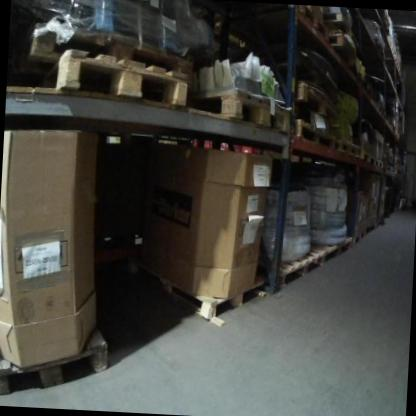pallet: (26, 18, 197, 86), (0, 323, 111, 403), (52, 45, 190, 106), (130, 263, 268, 324), (190, 80, 293, 133), (278, 244, 323, 290), (294, 79, 341, 123), (291, 118, 339, 150), (322, 234, 354, 268), (325, 33, 357, 66), (321, 11, 351, 32), (337, 137, 362, 158), (360, 150, 376, 165), (353, 228, 366, 245), (374, 157, 383, 170)
